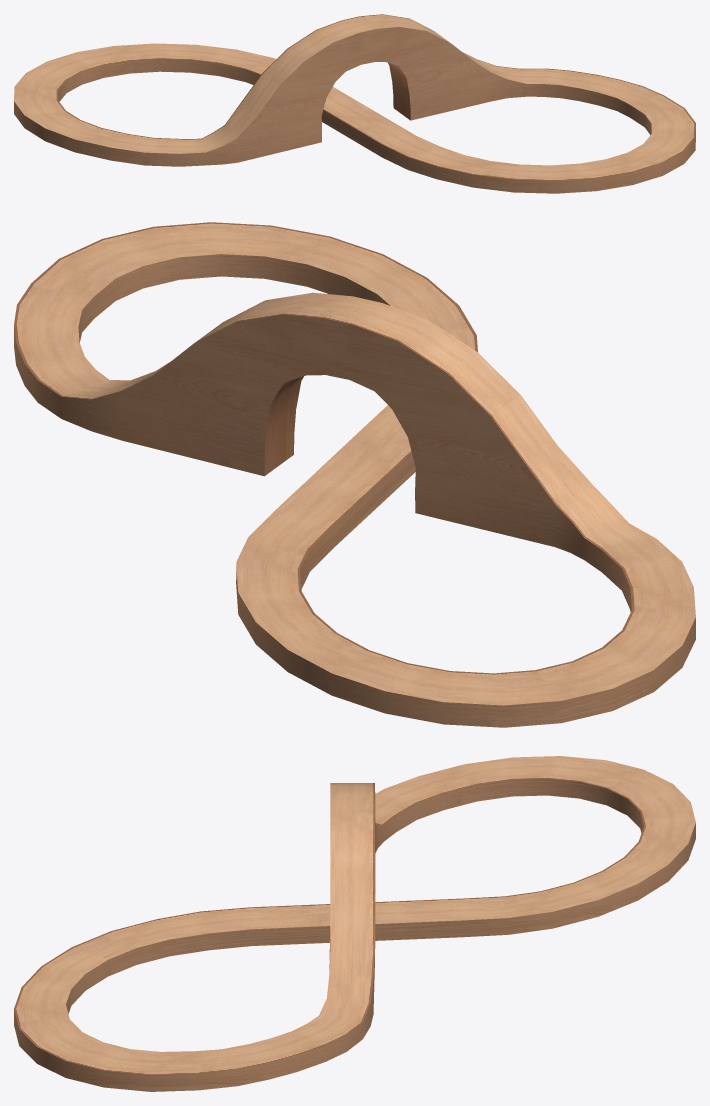
File: Doll_OB_ToyRail_001_Collider.FBX
The picture shows the model from 3 angles, top to bottom: view 1: azimuth 30°, elevation 25°; view 2: azimuth 150°, elevation 25°; view 3: azimuth 270°, elevation 25°; orthographic projection. The views are drawn at different scales.
Visible parts, largest first — view 1: Doll_OB_ToyRail_001_Collider; view 2: Doll_OB_ToyRail_001_Collider; view 3: Doll_OB_ToyRail_001_Collider.
Boxes of the visible parts, x1,y1,x2,y2 form: Doll_OB_ToyRail_001_Collider: (14, 14, 695, 193); Doll_OB_ToyRail_001_Collider: (14, 222, 695, 727); Doll_OB_ToyRail_001_Collider: (14, 756, 695, 1091).
Bounding box in the file's own units: 227 × 43.39 × 205.
